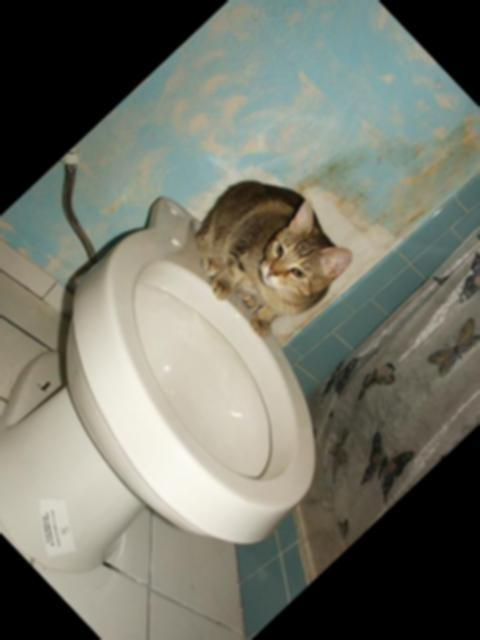Otro Obstaculo: (157, 142, 384, 370)
Sanitario: (0, 197, 383, 640)
